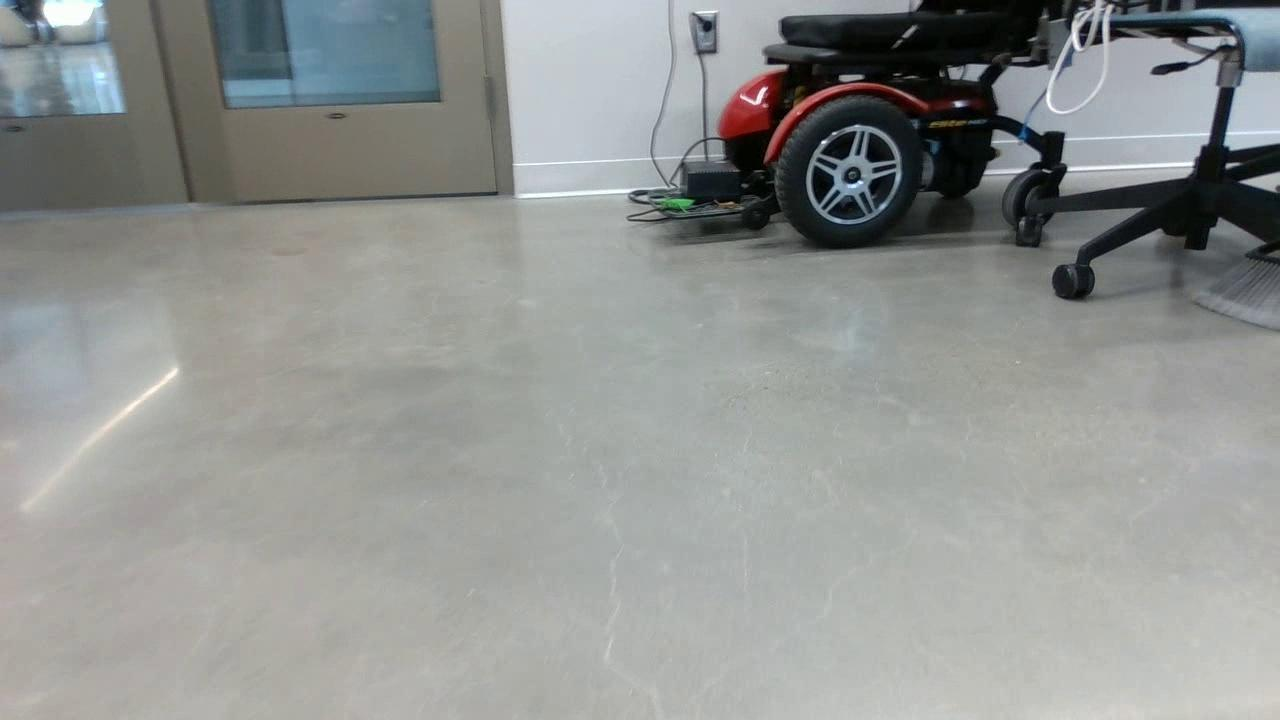grasshopper: (653, 195, 699, 217)
